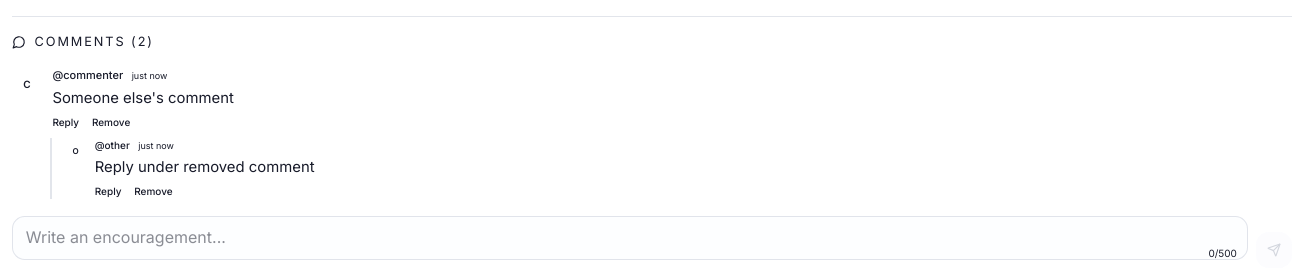
Scenario: CommentSection › lets prayer authors remove comments from their prayer thread
The width and height of the screenshot is (1304, 277).
Expected: the text "Someone else's comment" is shown, [52, 89, 234, 107]
Expected: the text "Reply under removed comment" is shown, [95, 158, 315, 176]
Click the button with aria-label "Remove comment by commenter" at (111, 122), box [92, 114, 130, 130]
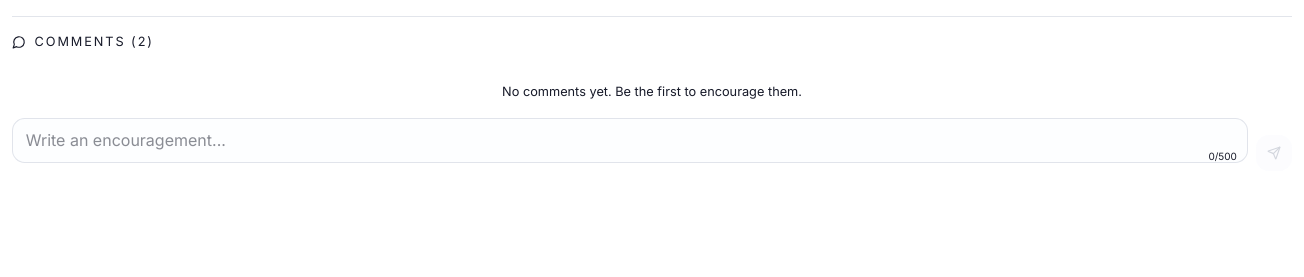
Now the text "Someone else's comment" is gone
Now the text "Reply under removed comment" is gone
